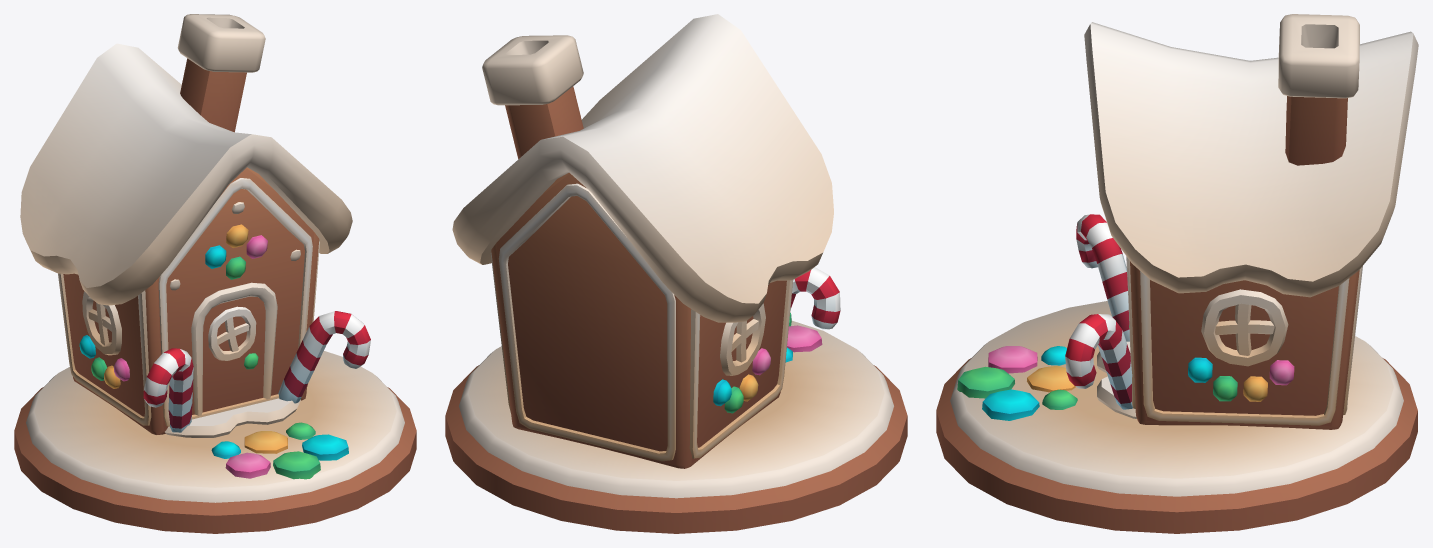
The model's file is gingerbread_house_decorated.glb.
The picture shows the model from 3 angles, left to right: view 1: azimuth 30°, elevation 25°; view 2: azimuth 150°, elevation 25°; view 3: azimuth 270°, elevation 25°; orthographic projection. The views are drawn at different scales.
Parts seen in each view (by area): view 1: gingerbread_house_decorated; view 2: gingerbread_house_decorated; view 3: gingerbread_house_decorated.
Boxes of the visible parts, x1,y1,x2,y2 form: gingerbread_house_decorated: [14, 14, 416, 533]; gingerbread_house_decorated: [445, 14, 907, 533]; gingerbread_house_decorated: [936, 14, 1418, 533].
Size of the model in its own units: 1.56 by 1.65 by 1.56.
1 material, 1 textured.
